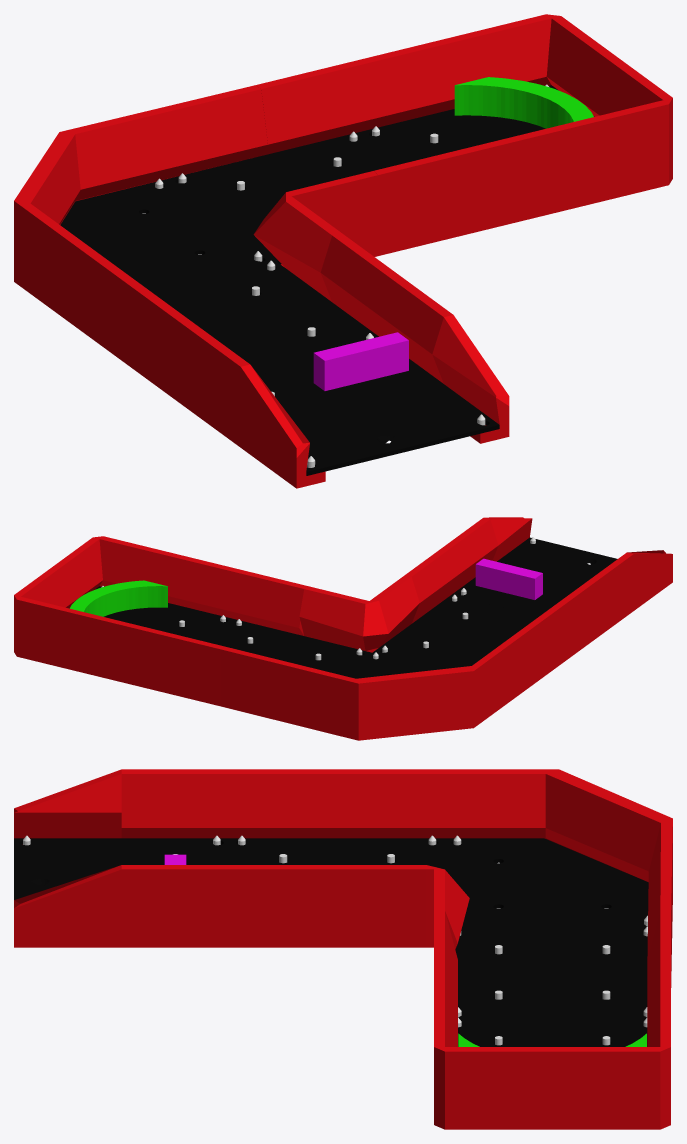
Rendered from mikrogolf-rata2.fbx.
The picture shows the model from 3 angles, top to bottom: view 1: azimuth 30°, elevation 25°; view 2: azimuth 150°, elevation 25°; view 3: azimuth 270°, elevation 25°; orthographic projection. The views are drawn at different scales.
Parts seen in each view (by area): view 1: Cube.113, Cube.104, Plane.046, Cube.103, Plane.048, Plane.047, Cube.108, Cube.109, Plane.044, Cube.107, Cube.114, Cube.112 (+5 smaller); view 2: Cube.113, Cube.103, Cube.104, Plane.047, Cube.114, Cube.107, Plane.046, Cube.109, Cube.108, Cube.112, Plane.044, Plane.045 (+5 smaller); view 3: Cube.113, Cube.112, Plane.044, Plane.048, Cube.109, Cube.108, Cube.107, Cube.114, Plane.046, Cube.129, Plane.047, Cube.110 (+3 smaller).
Part boxes in pixels (box(x1,y1,x2,y2)): Cube.113: box(14, 85, 267, 365); Cube.104: box(373, 124, 571, 255); Plane.046: box(258, 359, 499, 475); Cube.103: box(256, 38, 459, 155); Plane.048: box(60, 179, 275, 291); Plane.047: box(152, 261, 378, 374); Cube.108: box(567, 57, 672, 208); Cube.109: box(129, 282, 249, 447); Plane.044: box(165, 132, 400, 264); Cube.107: box(450, 14, 616, 116); Cube.114: box(253, 171, 378, 301); Cube.112: box(320, 233, 453, 383); Cube.113: box(221, 610, 554, 740); Cube.103: box(85, 613, 224, 706); Cube.104: box(164, 553, 307, 635); Plane.047: box(372, 595, 538, 669); Cube.114: box(299, 575, 419, 652); Cube.107: box(14, 566, 88, 673); Plane.046: box(451, 537, 617, 616); Cube.109: box(548, 552, 633, 668); Cube.108: box(53, 536, 171, 608); Cube.112: box(405, 517, 498, 623); Plane.044: box(206, 619, 371, 674); Plane.045: box(69, 586, 235, 641); Cube.113: box(337, 769, 672, 987); Cube.112: box(121, 865, 337, 947); Plane.044: box(455, 929, 647, 1020); Plane.048: box(445, 838, 648, 929); Cube.109: box(121, 769, 337, 838); Cube.108: box(434, 1001, 552, 1129); Cube.107: box(552, 1001, 670, 1129); Cube.114: box(337, 865, 469, 948); Plane.046: box(14, 838, 229, 899); Cube.129: box(14, 865, 121, 947); Plane.047: box(229, 838, 444, 869); Cube.110: box(14, 769, 121, 838).
Size of the model in its own units: 31 by 4 by 30.59.
